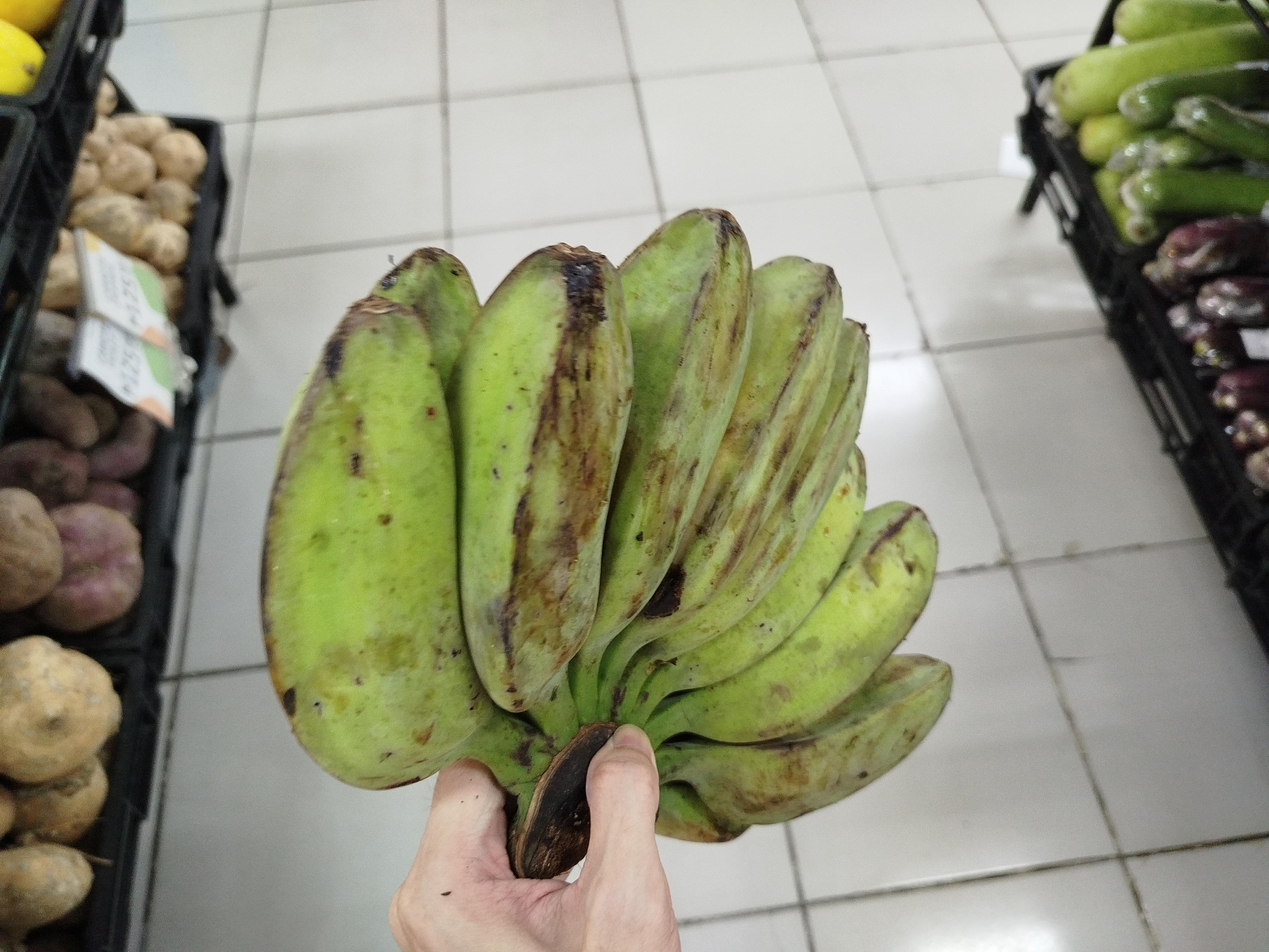underripe: (262, 210, 951, 842)
